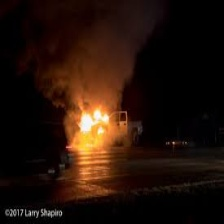fire: (75, 106, 114, 139)
smoke: (57, 6, 146, 99)
